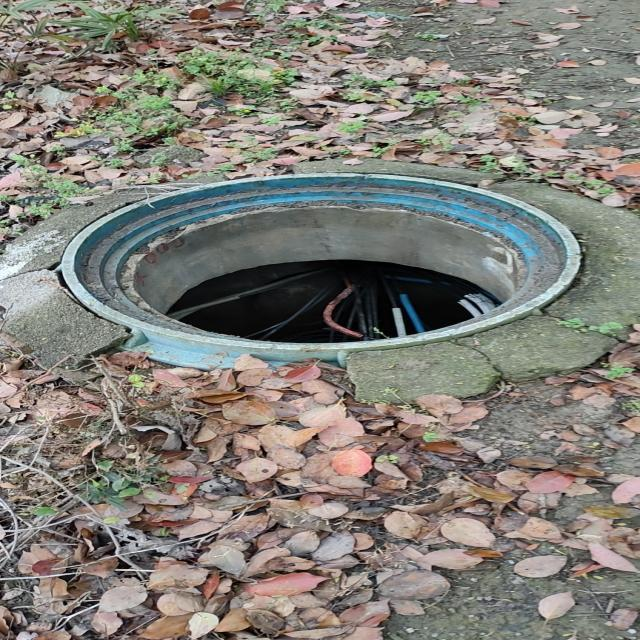Faulty: (58, 169, 583, 348)
